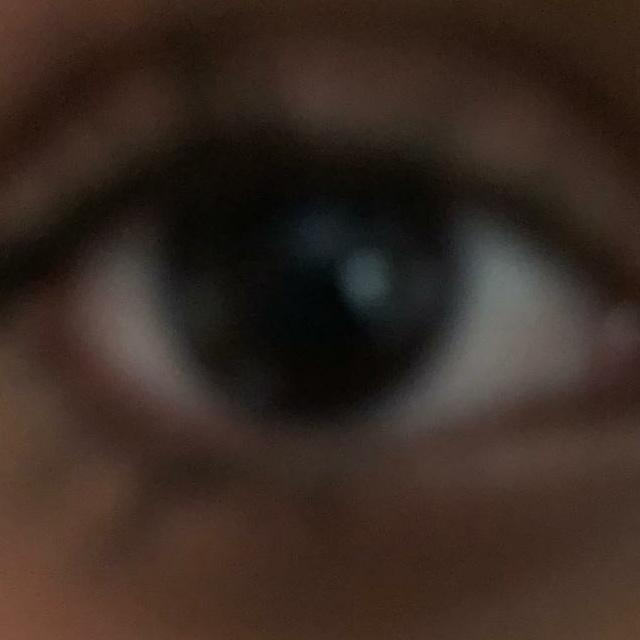eye: (59, 162, 595, 452)
iris: (159, 181, 468, 422)
